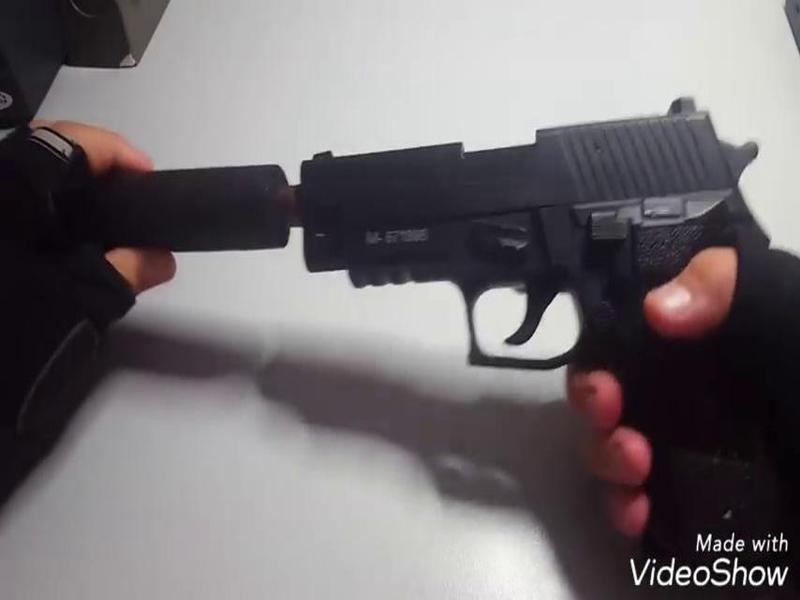Pistola: (297, 94, 800, 522)
